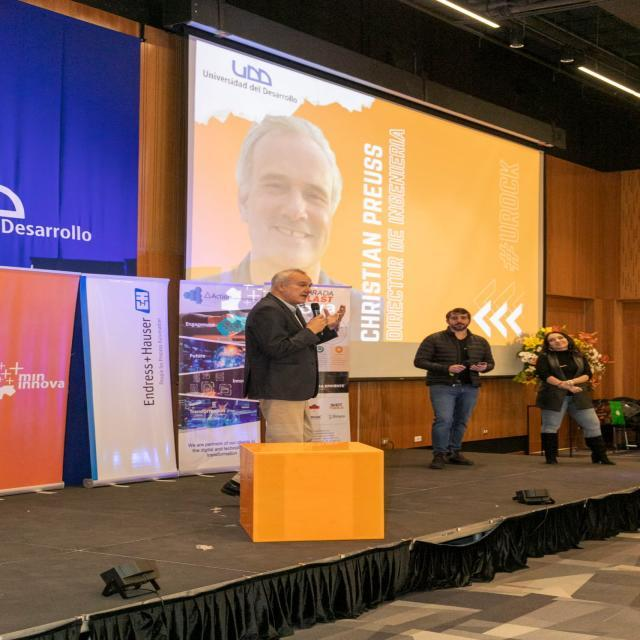person: (218, 262, 346, 446), (407, 286, 512, 479), (522, 322, 632, 477)
